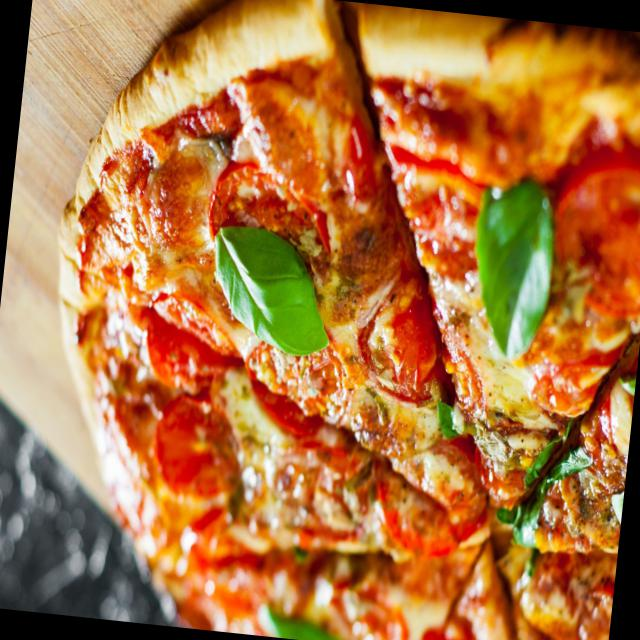pizza: (17, 0, 639, 639)
